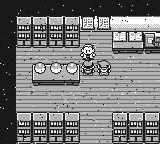leer: (113, 32, 143, 53), (82, 16, 111, 31), (144, 33, 160, 53)
main: (81, 60, 95, 76)
no-caminable: (1, 0, 160, 143), (17, 17, 79, 48), (17, 113, 79, 143), (113, 112, 160, 143), (33, 63, 79, 86), (112, 17, 160, 32)
npc: (80, 45, 96, 61), (97, 61, 112, 76)
poke-ball: (66, 62, 78, 74), (50, 62, 62, 74), (34, 62, 46, 74)
